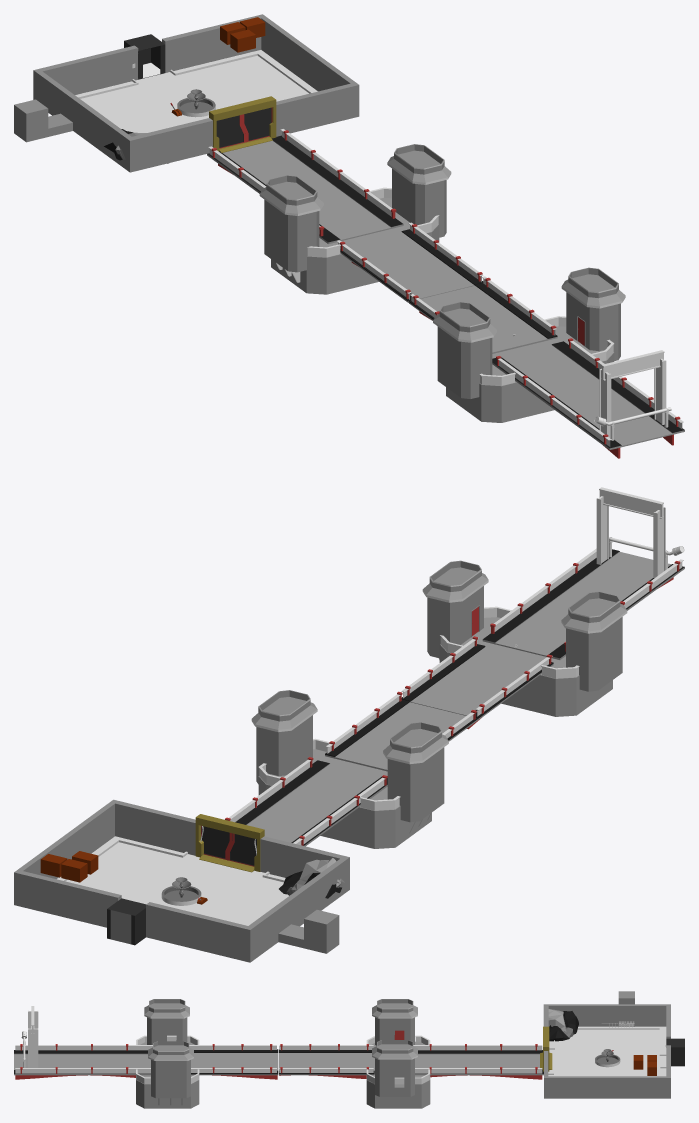
The model's file is Taman1.fbx.
3 views of the same model, one above another, from view 1: azimuth 30°, elevation 25°; view 2: azimuth 150°, elevation 25°; view 3: azimuth 270°, elevation 25° (orthographic). The views are drawn at different scales.
Visible parts, largest first — view 1: WallWithHole, Fence.Below.001, Grouund, Wall, Fence.Below.004, Fence.001, Controll room, Controll room.008, Fence.004, control.001, Controll room.007, Controll room.001 (+9 smaller); view 2: WallWithHole, Grouund, Wall, Fence.Below.001, Fence.Below.004, Fence.004, Controll room, Controll room.008, Fence.001, control.001, control, Controll room.007 (+8 smaller); view 3: Grouund, Fence.Below.001, Fence.Below.004, Wall, Fence.001, Fence.004, WallWithHole, Controll room.001, Controll room.007, Controll room.008, control, Controll room (+9 smaller).
Part boxes in pixels (x1,y1,x2,y2): WallWithHole: (14,45,212,172); Fence.Below.001: (492,341,684,458); Grouund: (75,50,317,132); Wall: (162,14,359,136); Fence.Below.004: (207,129,403,244); Fence.001: (336,222,483,302); Controll room: (259,175,323,272); Controll room.008: (433,302,496,398); Fence.004: (409,276,557,353); control.001: (446,316,614,422); Controll room.007: (387,144,451,237); Controll room.001: (561,267,625,360); WallWithHole: (146,836,349,962); Grouund: (57,836,288,925); Wall: (14,799,195,927); Fence.Below.001: (482,548,684,659); Fence.Below.004: (228,759,387,846); Fence.004: (401,636,553,729); Controll room: (383,722,448,822); Controll room.008: (561,591,627,691); Fence.001: (325,691,478,771); control.001: (439,606,612,716); control: (258,738,431,848); Controll room.007: (251,690,317,784); Grouund: (548,1026,666,1076); Fence.Below.001: (14,1045,152,1079); Fence.Below.004: (413,1045,543,1079); Wall: (544,1045,670,1098); Fence.001: (278,1044,374,1078); Fence.004: (189,1044,277,1079); WallWithHole: (543,991,670,1038); Controll room.001: (148,1041,193,1098); Controll room.007: (372,1040,417,1096); Controll room.008: (144,999,189,1044); control: (366,1035,430,1108); Controll room: (372,999,417,1045).
Bounding box in the file's own units: 3031 × 1145 × 9693.
